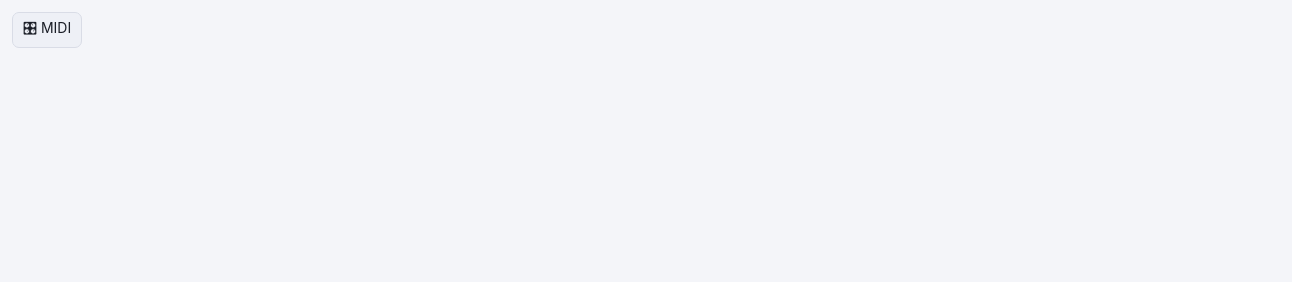
Scenario: MidiPanel › permissão negada mostra a mensagem de erro
Click the button titled "Teclado MIDI (entrada) e saída MIDI para o seu DAW" at (47,30), box [12, 12, 82, 48]
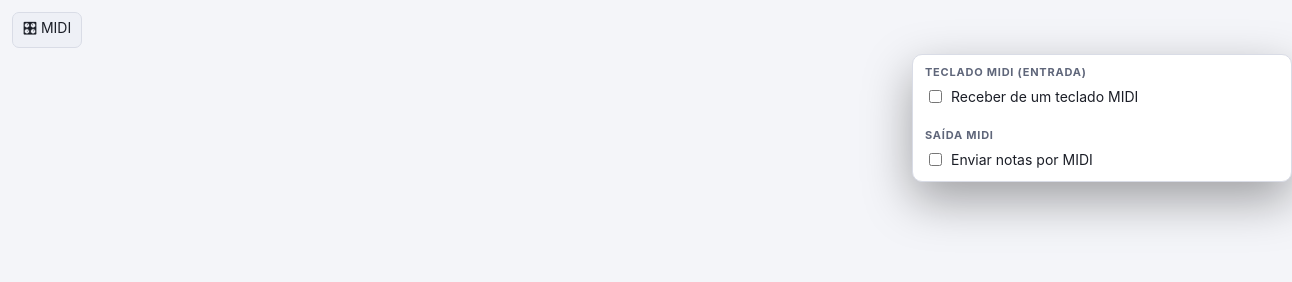
Click the checkbox labelled "Enviar notas por MIDI" at (936,160), box [929, 153, 942, 166]
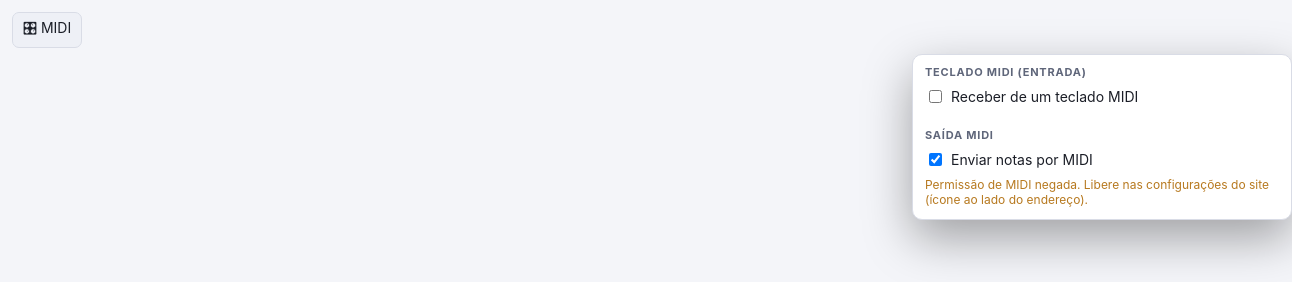
Expected: the text "Permissão de MIDI negada" is shown, [925, 177, 1269, 207]
